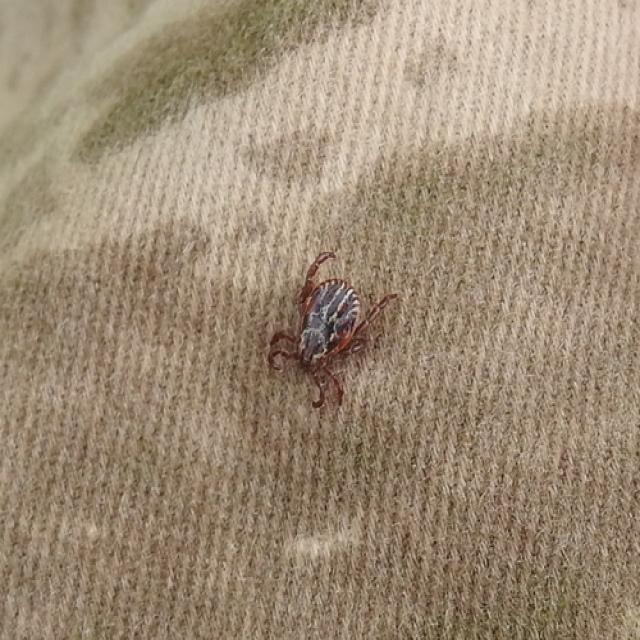Dermacentor Reticulatus-M: (269, 252, 398, 409)
